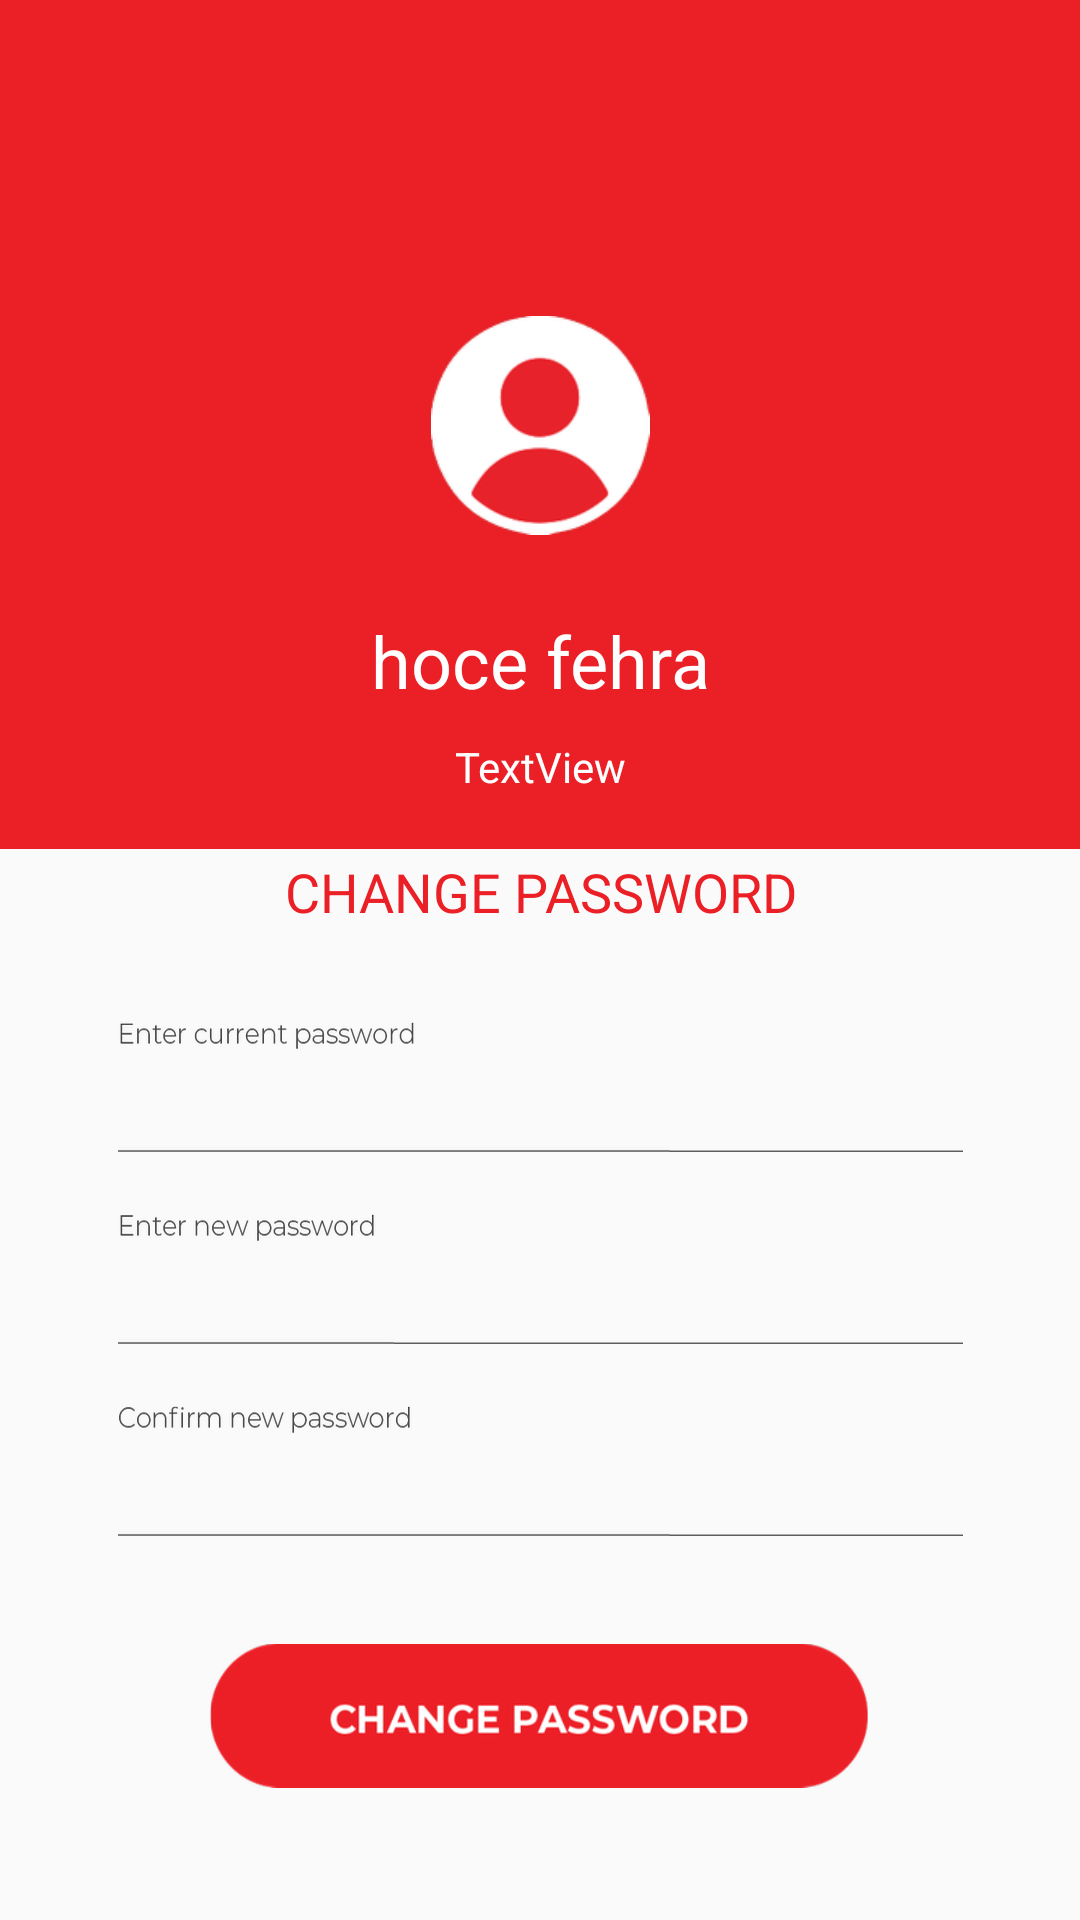

Screen size 1080 × 1920. Icon name, then its center in pixels as point (x, y):
profileicon: point (540, 425)
